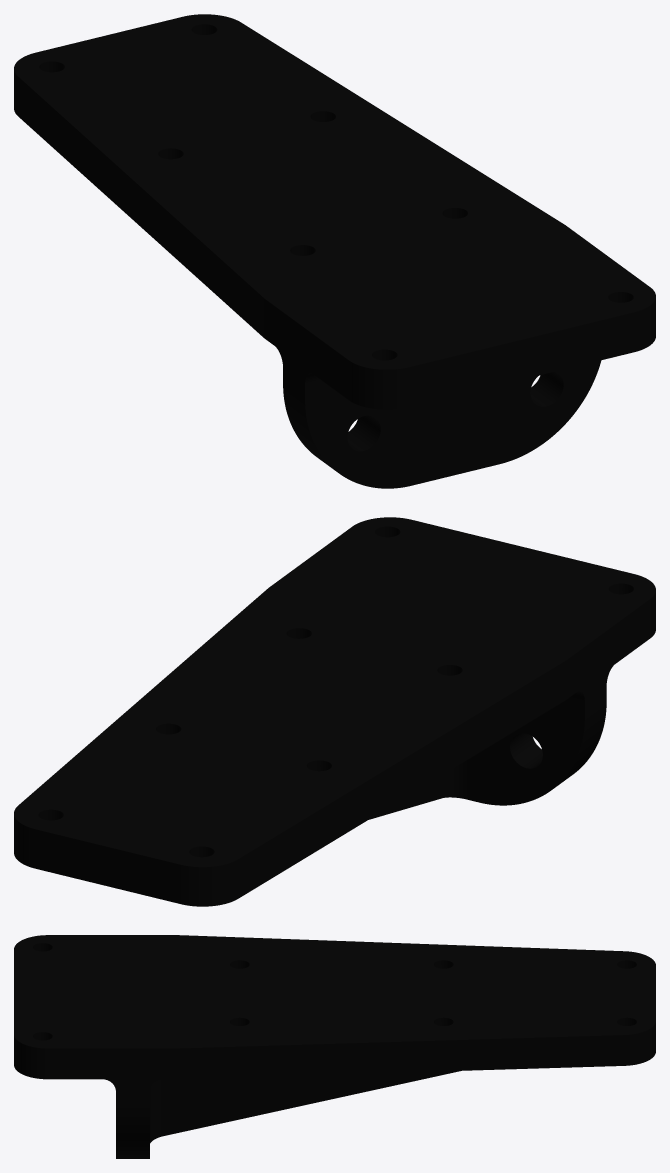
3 renders of one model, top to bottom at view 1: azimuth 30°, elevation 25°; view 2: azimuth 150°, elevation 25°; view 3: azimuth 270°, elevation 25°, orthographic. The views are drawn at different scales.
Visible parts, largest first — view 1: surface; view 2: surface; view 3: surface.
Part boxes in pixels (x1,y1,x2,y2): surface: [14, 14, 655, 488]; surface: [14, 517, 655, 906]; surface: [14, 935, 655, 1158].
Size of the model in its own units: 1.56 by 0.9055 by 3.72.
1 material, 1 textured.
